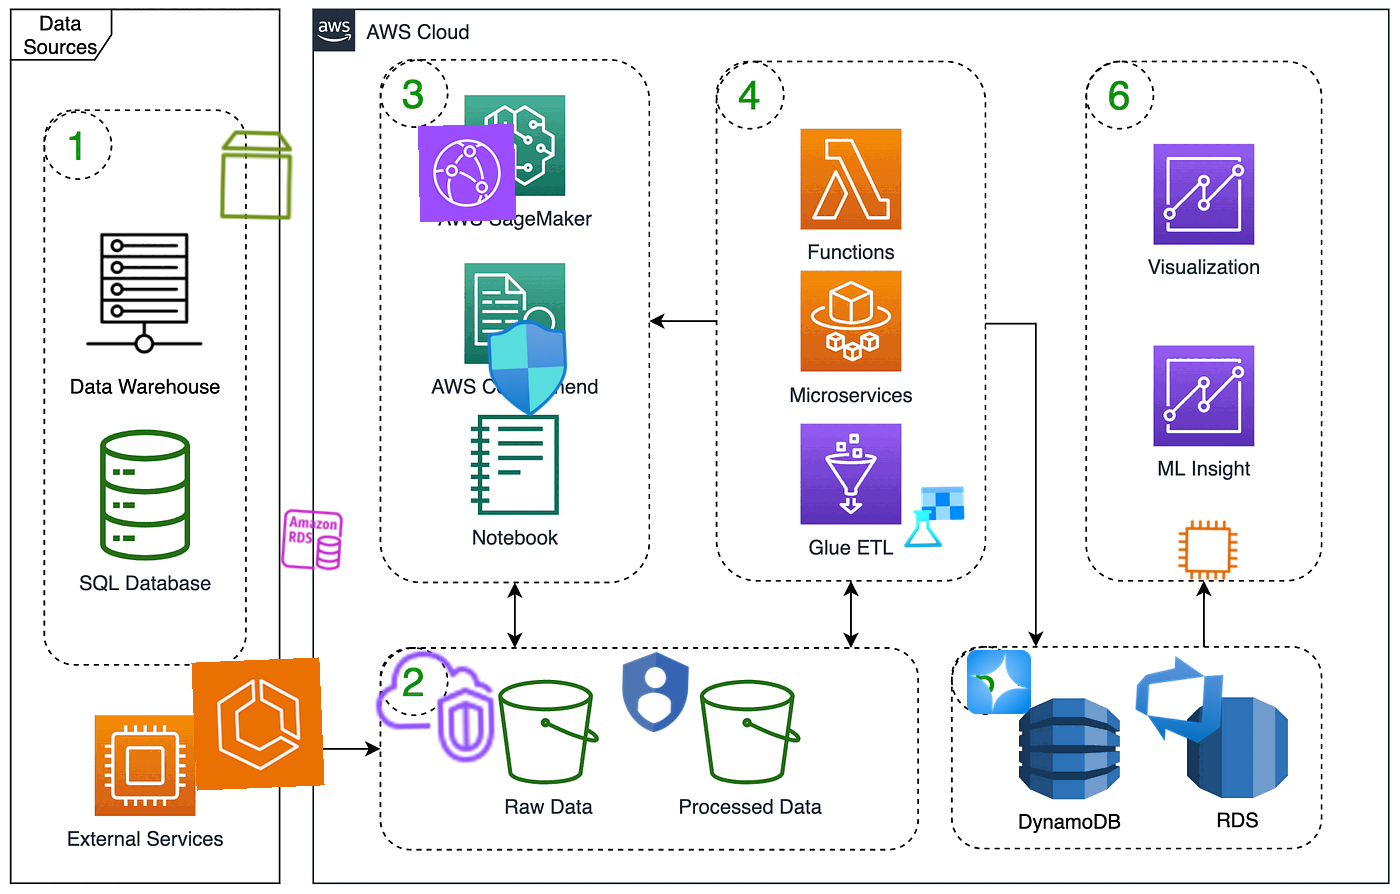aws_amazon_cloudfront: (417, 123, 517, 224)
aws_amazon_elastic_container_service: (191, 657, 324, 791)
aws_aurora_amazon_rds_instance: (277, 505, 347, 575)
aws_ec2_instance: (1176, 517, 1241, 583)
aws_elastic_block_store_volume: (207, 125, 307, 225)
aws_vpc_virtual_private_cloud_vpc: (369, 641, 501, 773)
azure_devops: (1128, 648, 1230, 750)
azure_machine_learning_studio_workspaces: (901, 484, 967, 550)
azure_network_security_groups: (477, 317, 579, 419)
azure_openai: (966, 649, 1032, 715)
gcp_identity_and_access_management: (605, 642, 705, 742)
